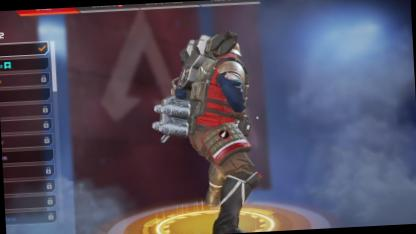Target: (149, 28, 259, 202)
